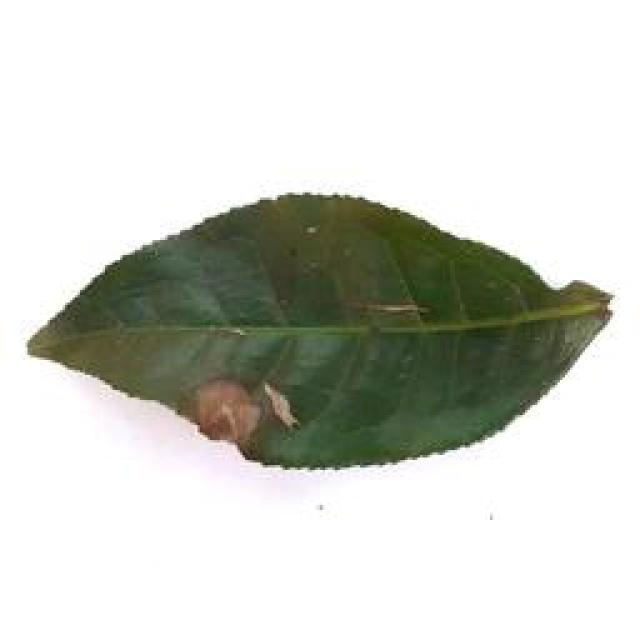Gray Blight: (25, 184, 618, 473)
